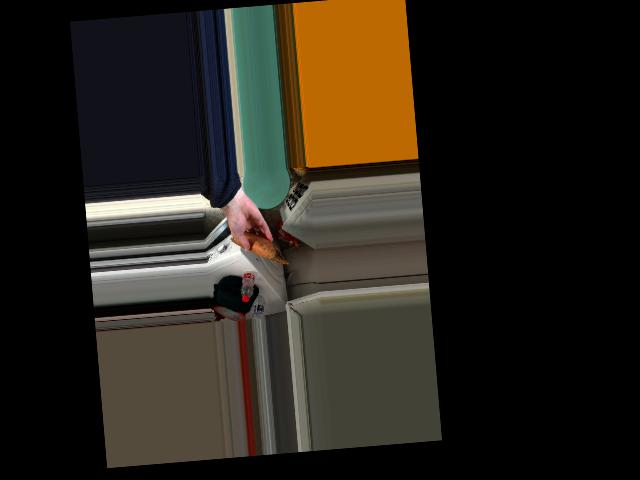sweet_potato: (239, 230, 274, 259)
